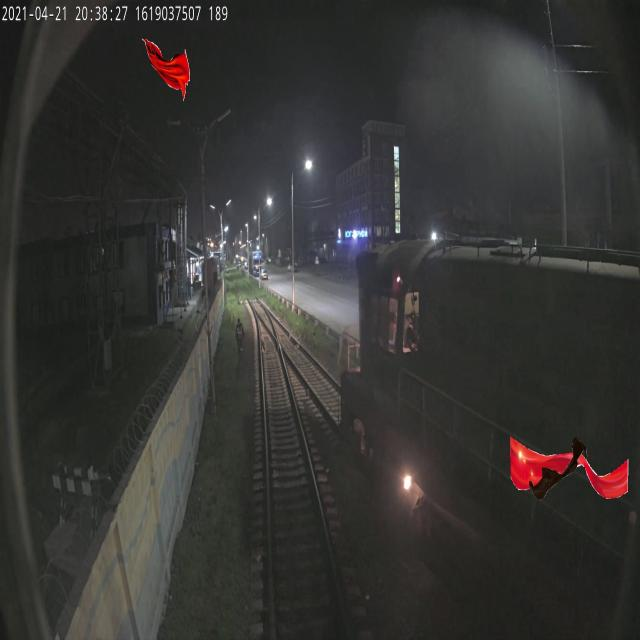floating object: (508, 436, 630, 500), (529, 436, 587, 500), (142, 38, 190, 102)
